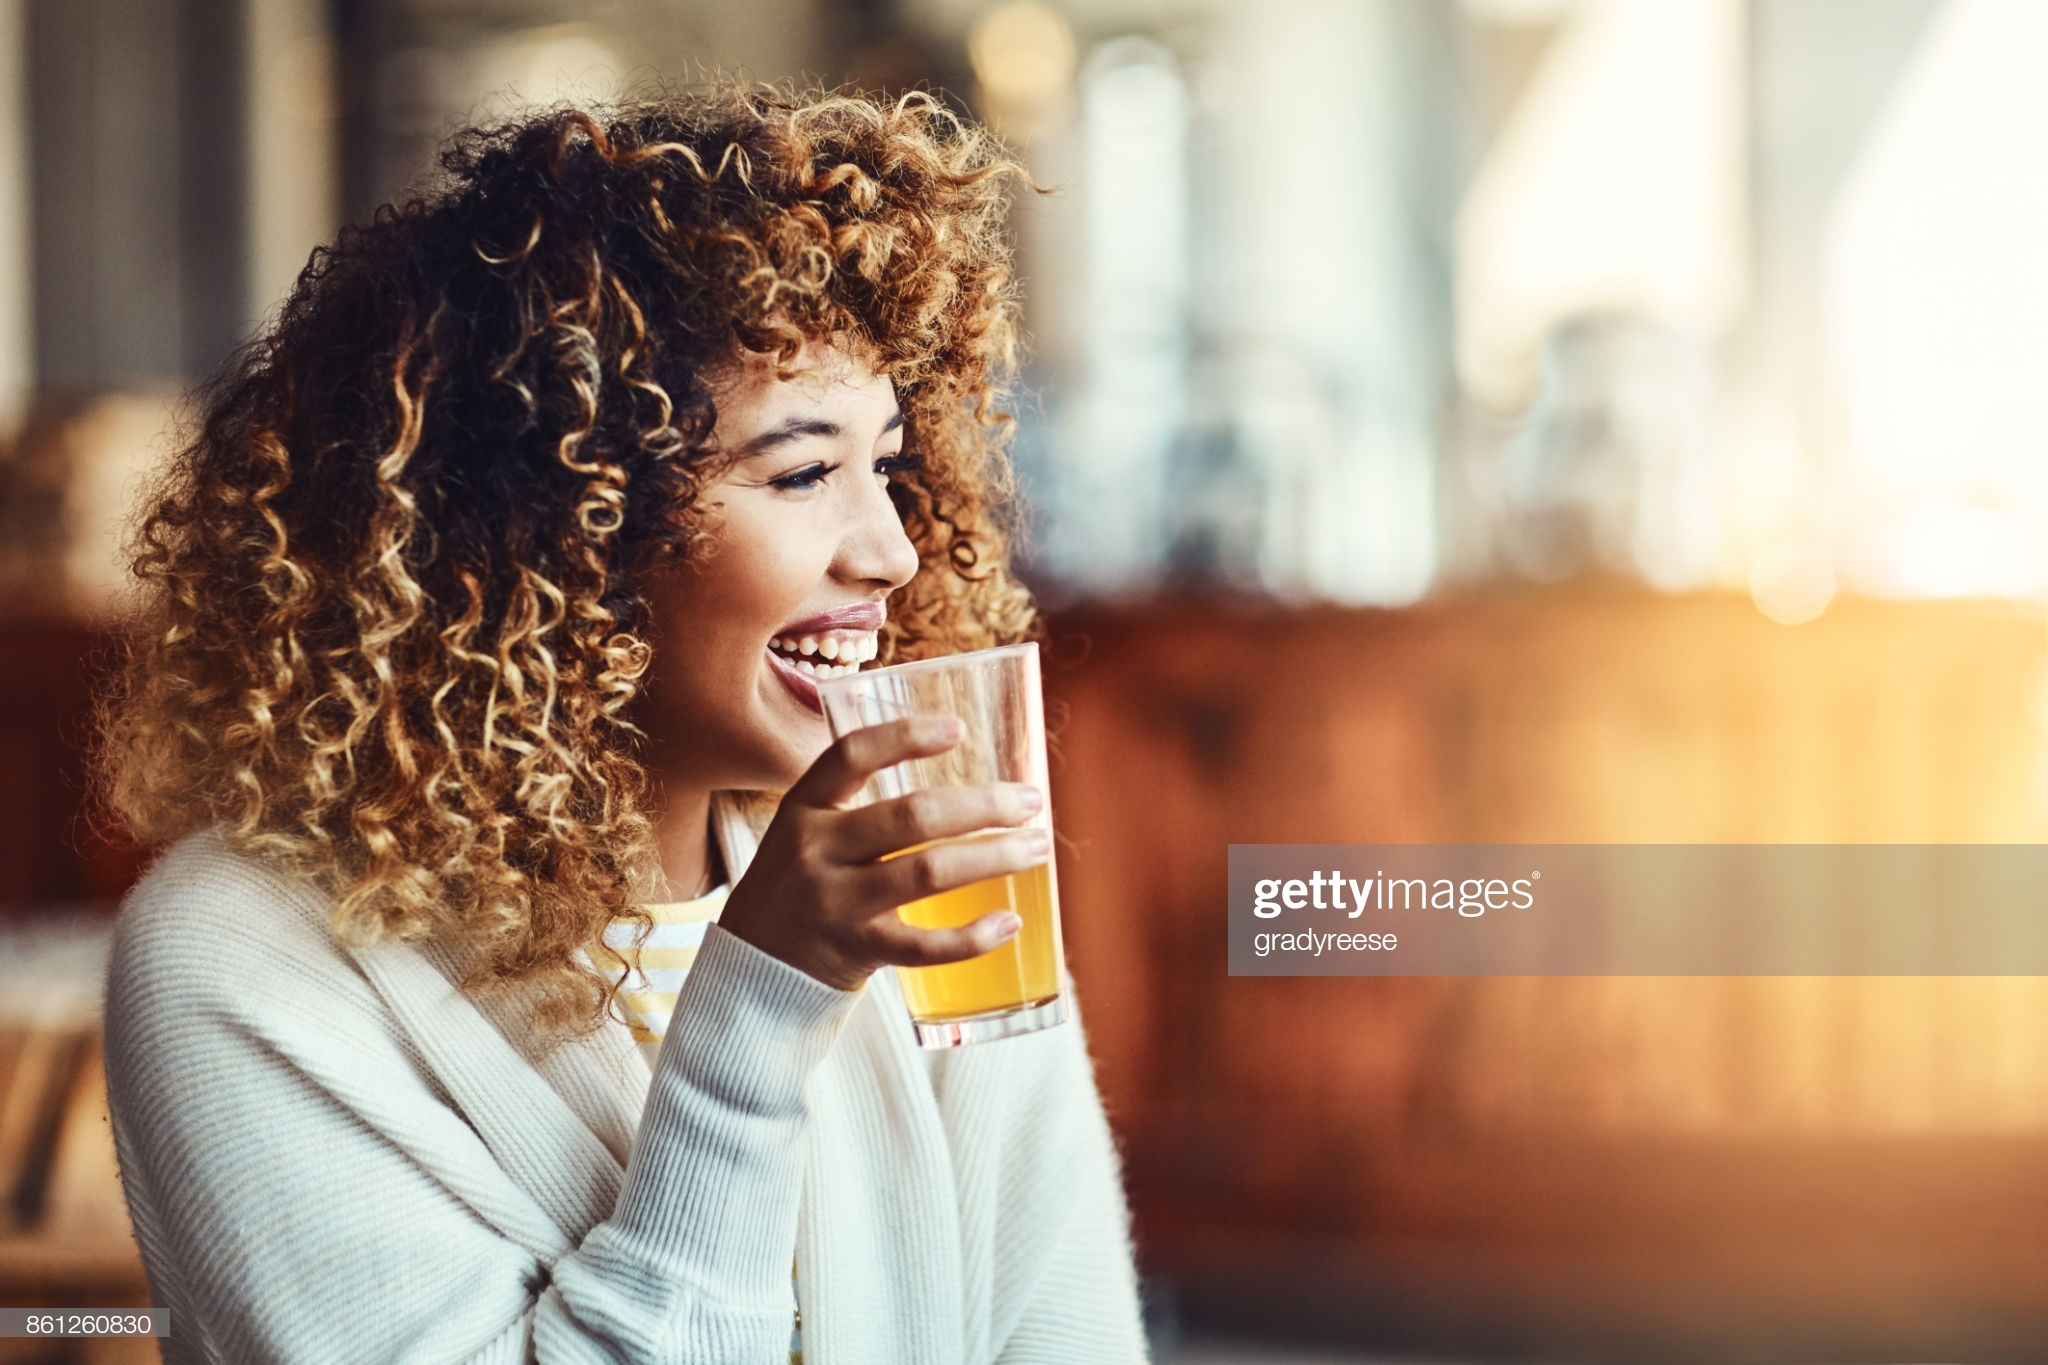glassBeer: (850, 638, 1060, 1051)
